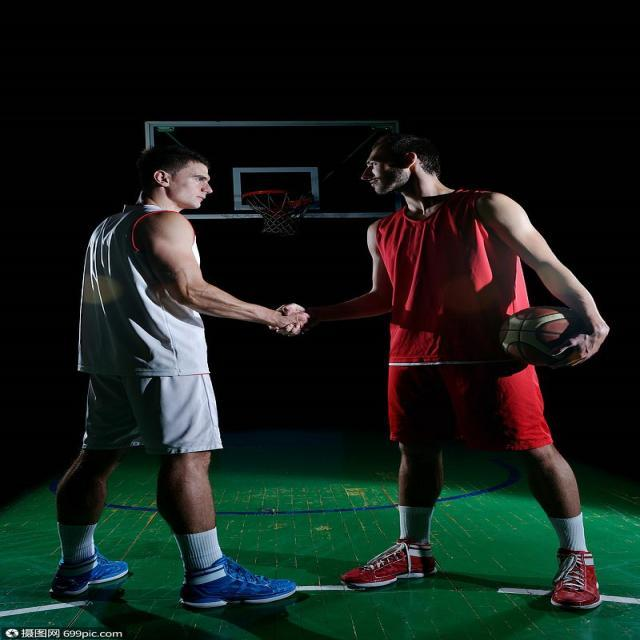rim: (495, 308, 581, 367)
